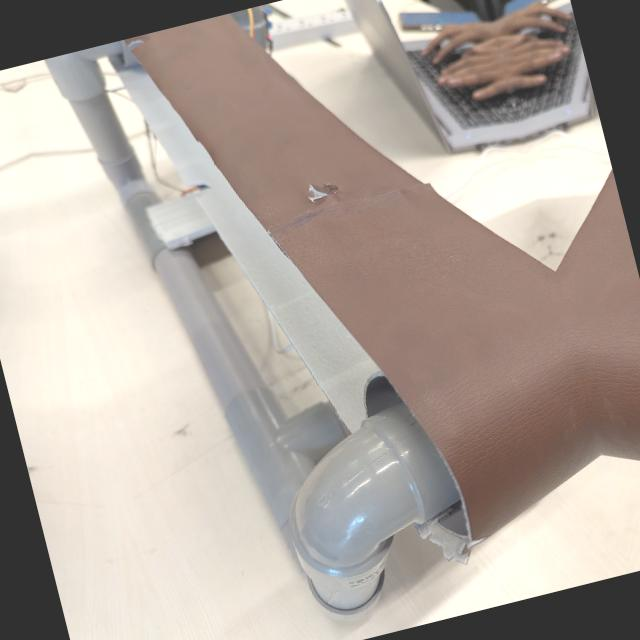joint_damage: (297, 166, 343, 217)
